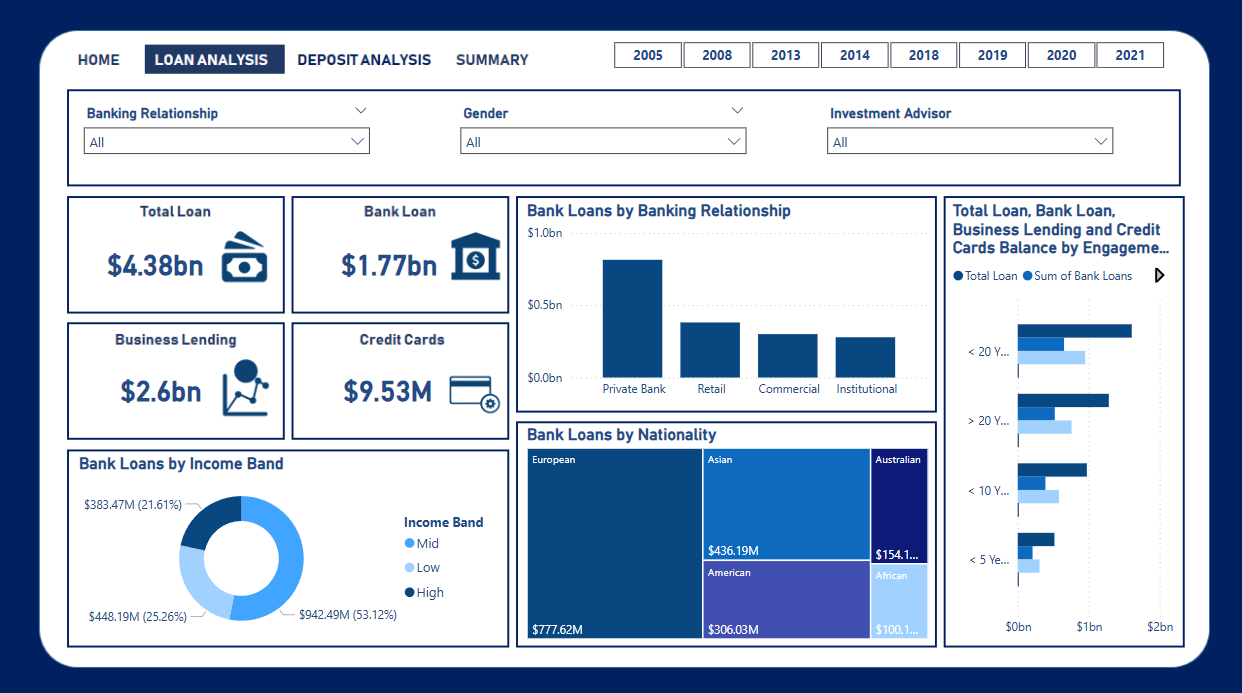

This screenshot's page, from the dashboard's own definition file:
{"tool":"powerbi","page":{"name":"Loan Analysis","canvas":[1280,720],"ordinal":1},"visuals":[{"type":"actionButton","box":[67.4,46.8,72.6,30.5],"z":0},{"type":"actionButton","box":[463.2,46.8,85.8,30.5],"z":1000},{"type":"actionButton","box":[301.1,46.8,146.3,30.5],"z":2000},{"type":"slicer","fields":{"Values":["banking_analysis customer.Joining Year"]},"box":[606.5,37.1,615.4,33.6],"z":3000},{"type":"slicer","title":"Banking Relationship","fields":{"Values":["banking_analysis customer.Banking Relationship"]},"box":[76,104,314,86],"z":4000},{"type":"slicer","title":"Banking Relationship","fields":{"Values":["banking_analysis customer.Gender"]},"box":[464,104,314,86],"z":5000},{"type":"slicer","title":"Banking Relationship","fields":{"Values":["banking_analysis customer.Investment Advisor"]},"box":[842,104,314,86],"z":6000},{"type":"card","fields":{"Values":["banking_analysis customer.Total Loan"]},"box":[38.9,215.7,242.3,111.4],"z":7000},{"type":"card","fields":{"Values":["Sum(banking_analysis customer.Bank Loans)"]},"box":[279.4,215.7,242.3,111.4],"z":8000},{"type":"card","fields":{"Values":["Sum(banking_analysis customer.Business Lending)"]},"box":[44.2,346.6,242.3,111.4],"z":9000},{"type":"card","fields":{"Values":["Sum(banking_analysis customer.Credit Card Balance)"]},"box":[277.6,346.6,242.3,111.4],"z":10000},{"type":"donutChart","title":"Bank Loans by Income Band","fields":{"Category":["banking_analysis customer.Income Band"],"Y":["Sum(banking_analysis customer.Bank Loans)"]},"box":[75.7,468.6,444.3,195.7],"z":11000},{"type":"clusteredColumnChart","title":"Bank Loans by Banking Relationship","fields":{"Category":["banking_analysis customer.Banking Relationship"],"Y":["Sum(banking_analysis customer.Bank Loans)"]},"box":[537.1,207.9,423.6,212.1],"z":12000},{"type":"treemap","title":"Bank Loans by Nationality","fields":{"Values":["Sum(banking_analysis customer.Bank Loans)"],"Group":["banking_analysis customer.Nationality"]},"box":[537.1,438.6,422.9,225.7],"z":13000},{"type":"clusteredBarChart","title":"Total Loan, Bank Loan, Business Lending and Credit Cards Balance by Engagement Timeframe","fields":{"Y":["banking_analysis customer.Total Loan","Sum(banking_analysis customer.Bank Loans)","Sum(banking_analysis customer.Business Lending)","Sum(banking_analysis customer.Credit Card Balance)"],"Category":["banking_analysis customer.Engagement Timeframe"]},"box":[976,208,237,457],"z":14000}]}

Visuals, with their boxes in screenshot pixels (x1, y1, x2, y2), scaled from the page's 1280x720 canvas onto the 1242x693 screenshot:
actionButton: crop(65, 45, 136, 74)
actionButton: crop(449, 45, 533, 74)
actionButton: crop(292, 45, 434, 74)
slicer - banking_analysis customer.Joining Year: crop(588, 36, 1186, 68)
"Banking Relationship" slicer: crop(74, 100, 378, 183)
"Banking Relationship" slicer: crop(450, 100, 755, 183)
"Banking Relationship" slicer: crop(817, 100, 1122, 183)
card - banking_analysis customer.Total Loan: crop(38, 208, 273, 315)
card - Sum(banking_analysis customer.Bank Loans): crop(271, 208, 506, 315)
card - Sum(banking_analysis customer.Business Lending): crop(43, 334, 278, 441)
card - Sum(banking_analysis customer.Credit Card Balance): crop(269, 334, 504, 441)
"Bank Loans by Income Band" donutChart: crop(73, 451, 505, 639)
"Bank Loans by Banking Relationship" clusteredColumnChart: crop(521, 200, 932, 404)
"Bank Loans by Nationality" treemap: crop(521, 422, 932, 639)
"Total Loan, Bank Loan, Business Lending and Credit Cards Balance by Engagement Timeframe" clusteredBarChart: crop(947, 200, 1177, 640)
